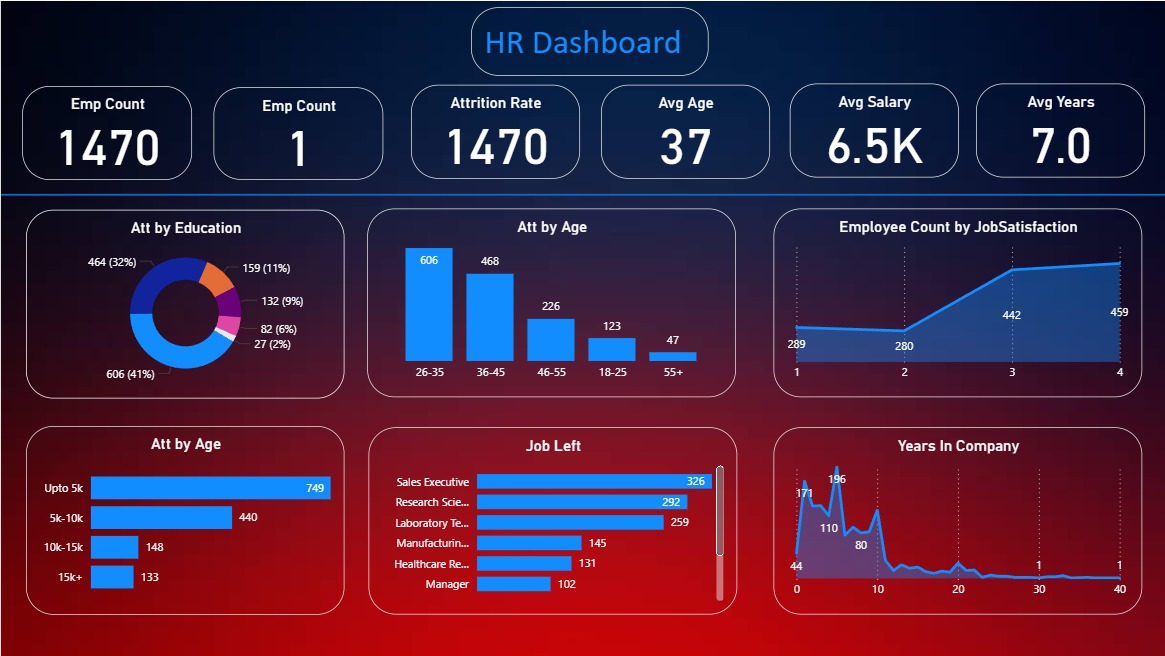

The dashboard page shown, as its layout file describes it:
{"tool":"powerbi","page":{"name":"Page 1","canvas":[1280,720],"ordinal":0},"visuals":[{"type":"card","title":"Emp Count","fields":{"Values":["Sum(HR_Analytics.EmployeeCount)"]},"box":[22.8,81.5,172.5,121.2],"z":0},{"type":"card","title":"Emp Count","fields":{"Values":["Max(HR_Analytics.Att Count)"]},"box":[209.5,84.4,171,118.3],"z":1000},{"type":"card","title":"Attrition Rate ","fields":{"Values":["Sum(HR_Analytics.EmployeeCount)"]},"box":[400.5,83,183.9,121.2],"z":2000},{"type":"card","title":"Avg Age ","fields":{"Values":["Avg(HR_Analytics.Age)"]},"box":[610.1,80.1,196.7,125.4],"z":3000},{"type":"card","title":"Avg Salary","fields":{"Values":["Avg(HR_Analytics.MonthlyIncome)"]},"box":[835.3,83,195.3,121.2],"z":4000},{"type":"card","title":"Avg Years","fields":{"Values":["Avg(HR_Analytics.YearsAtCompany)"]},"box":[1054.8,84.4,176.7,121.2],"z":5000},{"type":"donutChart","title":"Att by Education ","fields":{"Category":["HR_Analytics.EducationField"],"Y":["CountNonNull(HR_Analytics.Att Count)"]},"box":[45.6,225.5,335,186.7],"z":6000},{"type":"clusteredColumnChart","title":"Att by Age","fields":{"Category":["HR_Analytics.AgeGroup"],"Y":["CountNonNull(HR_Analytics.Att Count)"]},"box":[420.5,225.2,327.8,206.7],"z":7000},{"type":"stackedAreaChart","title":"Employee Count by JobSatisfaction","fields":{"Category":["HR_Analytics.JobRole","HR_Analytics.JobSatisfaction"],"Y":["Sum(HR_Analytics.EmployeeCount)"]},"box":[819.6,228.3,340.7,209.5],"z":8000},{"type":"clusteredBarChart","title":"Att by Age","fields":{"Category":["HR_Analytics.SalarySlab"],"Y":["Sum(HR_Analytics.EmployeeCount)"]},"box":[42.8,435,333.5,260.8],"z":9000},{"type":"clusteredBarChart","title":"Job Left ","fields":{"Category":["HR_Analytics.JobRole"],"Y":["CountNonNull(HR_Analytics.Att Count)"]},"box":[420.5,449,350.6,233.8],"z":10000},{"type":"areaChart","title":"Years In Company","fields":{"Category":["HR_Analytics.YearsAtCompany"],"Y":["CountNonNull(HR_Analytics.Att Count)"]},"box":[826.7,461.8,404.8,206.7],"z":11000}]}

Visuals, with their boxes in screenshot pixels (x1, y1, x2, y2), scaled from the page's 1280x720 canvas onto the 1165x656 screenshot:
"Emp Count" card: (21,74,178,185)
"Emp Count" card: (191,77,346,185)
"Attrition Rate " card: (365,76,532,186)
"Avg Age " card: (555,73,734,187)
"Avg Salary" card: (760,76,938,186)
"Avg Years" card: (960,77,1121,187)
"Att by Education " donutChart: (42,205,346,376)
"Att by Age" clusteredColumnChart: (383,205,681,394)
"Employee Count by JobSatisfaction" stackedAreaChart: (746,208,1056,399)
"Att by Age" clusteredBarChart: (39,396,342,634)
"Job Left " clusteredBarChart: (383,409,702,622)
"Years In Company" areaChart: (752,421,1121,609)
